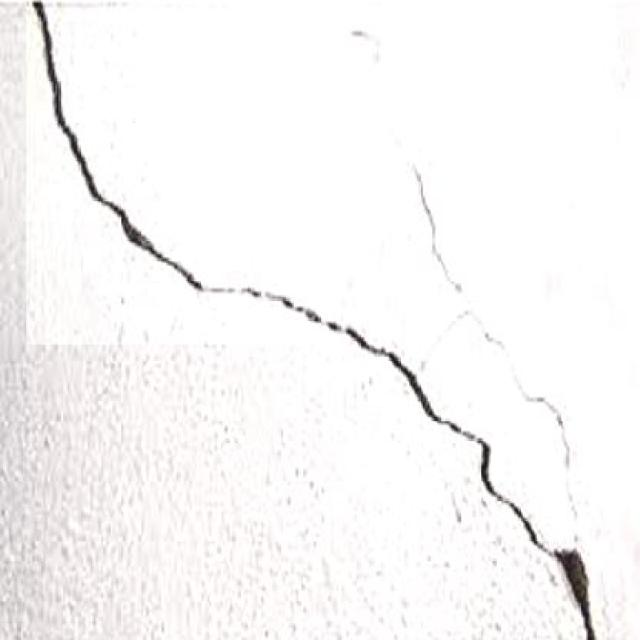Crack: (32, 8, 370, 332), (298, 335, 526, 603), (403, 147, 465, 309), (529, 515, 603, 640), (436, 320, 560, 376)
